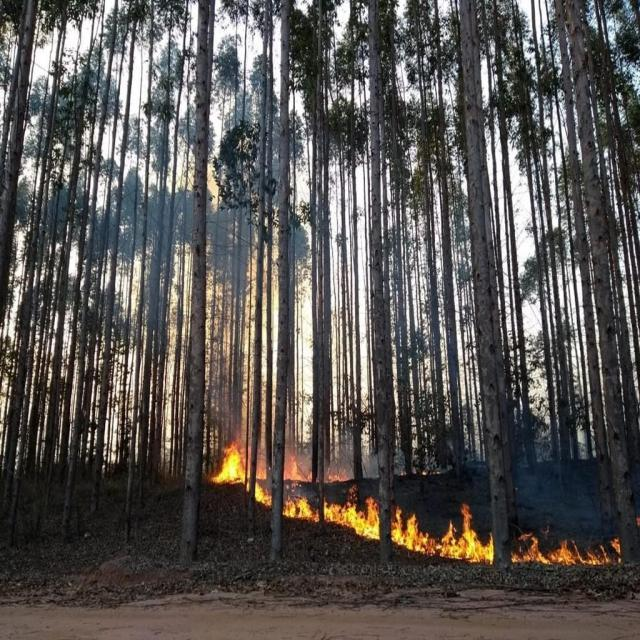Fire: (281, 454, 378, 544), (390, 500, 494, 567), (508, 522, 622, 571), (209, 440, 272, 507)
Smoke: (255, 437, 378, 505)
